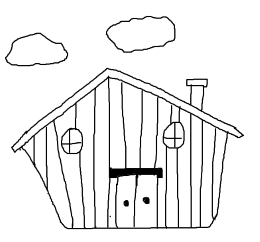chimney: (183, 70, 212, 116)
closed_window: (159, 119, 188, 154), (58, 125, 86, 158)
clouds: (105, 12, 179, 58), (3, 28, 71, 70)
door: (104, 160, 165, 233)
roof: (11, 65, 243, 153)
wall: (21, 78, 228, 233)
